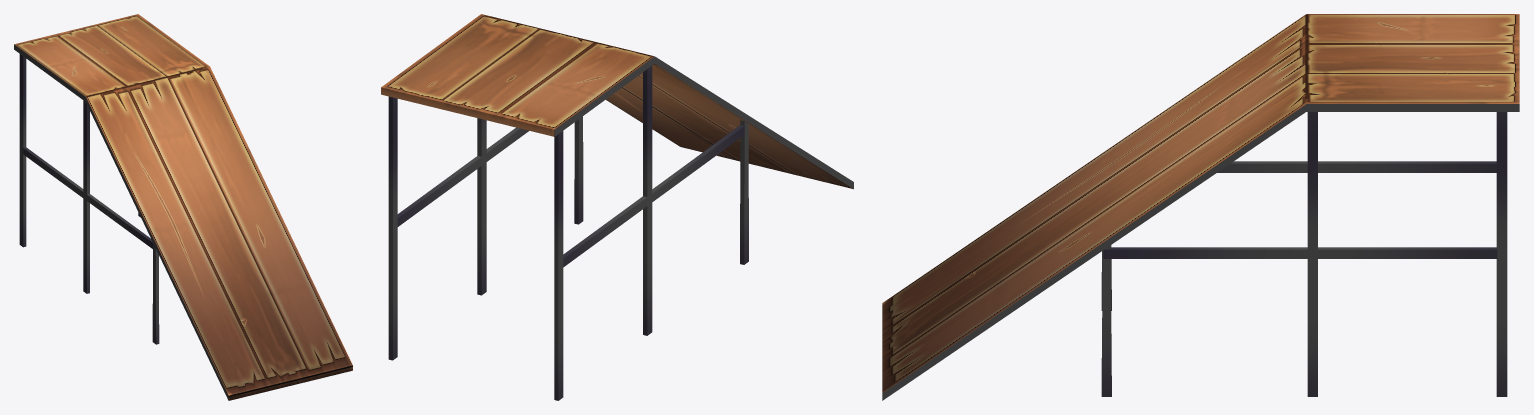
The model's file is platform.FBX.
The picture shows the model from 3 angles, left to right: view 1: azimuth 30°, elevation 25°; view 2: azimuth 150°, elevation 25°; view 3: azimuth 270°, elevation 25°; orthographic projection. The views are drawn at different scales.
Parts seen in each view (by area): view 1: Box008; view 2: Box008; view 3: Box008.
Boxes of the visible parts, left/top/right/bottom form: Box008: left=14, top=14, right=352, bottom=400; Box008: left=381, top=14, right=853, bottom=400; Box008: left=882, top=14, right=1519, bottom=400.
Size of the model in its own units: 19.72 by 30.22 by 58.83.
